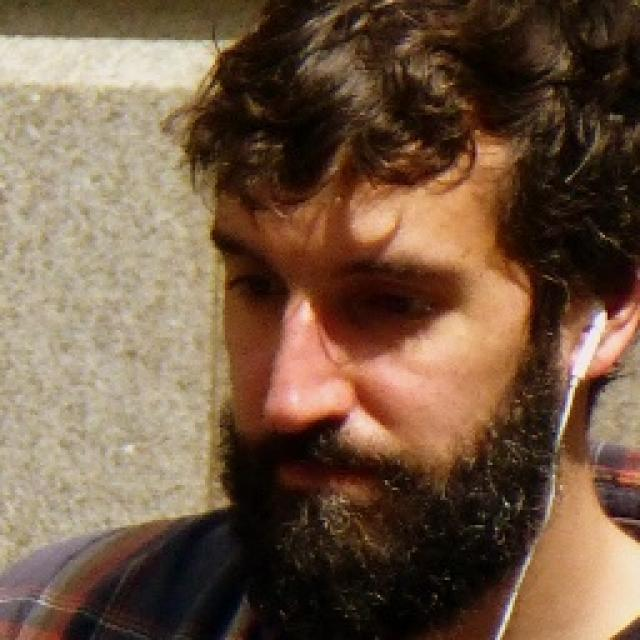earlobe: (570, 266, 640, 382)
